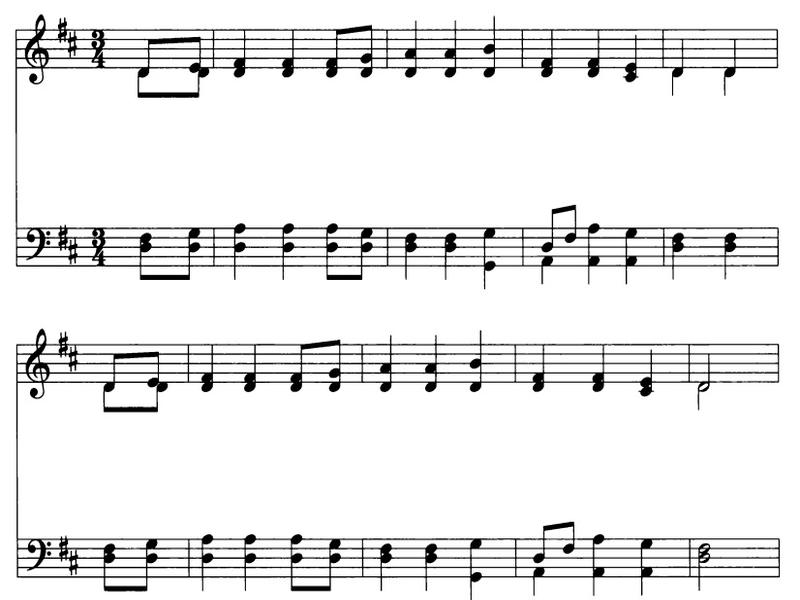B: (697, 538, 714, 593), (691, 383, 718, 412), (697, 351, 716, 391)
C: (132, 532, 167, 596), (174, 220, 207, 286), (315, 534, 350, 595), (318, 215, 343, 284), (325, 9, 348, 80), (284, 527, 308, 594), (288, 339, 317, 394), (352, 219, 376, 284), (97, 536, 121, 594), (360, 9, 379, 78), (104, 344, 127, 392), (533, 517, 555, 564), (150, 378, 174, 421), (540, 204, 562, 250), (133, 28, 154, 75), (142, 341, 163, 388), (183, 24, 203, 73), (561, 515, 582, 559), (140, 227, 156, 284), (327, 333, 341, 397), (562, 199, 579, 249), (190, 69, 213, 103), (134, 67, 152, 102), (97, 384, 117, 414)
CF: (22, 208, 55, 264), (24, 530, 53, 573)
CS: (20, 320, 54, 408), (23, 9, 50, 89)
N: (417, 328, 451, 402), (477, 4, 508, 82), (222, 213, 255, 286), (366, 329, 399, 398), (522, 333, 557, 397), (536, 14, 567, 86), (583, 330, 617, 394), (438, 5, 467, 80), (617, 22, 647, 94), (227, 11, 256, 85), (237, 324, 266, 395), (582, 527, 610, 595), (399, 7, 425, 79), (468, 321, 490, 401), (241, 532, 268, 591), (274, 18, 301, 76), (467, 530, 491, 595), (196, 520, 217, 594), (417, 530, 443, 589), (637, 349, 662, 409), (195, 338, 219, 398), (375, 530, 398, 589), (582, 22, 604, 82), (634, 530, 653, 598), (277, 220, 297, 278), (670, 28, 692, 78), (668, 231, 687, 285), (586, 220, 601, 285), (722, 228, 740, 282), (622, 224, 639, 281), (404, 231, 422, 284), (723, 35, 745, 78), (440, 229, 457, 282), (481, 257, 503, 293), (670, 65, 688, 95), (719, 65, 736, 96), (483, 227, 497, 258)
SOS: (53, 5, 67, 43), (55, 321, 70, 354), (67, 234, 80, 270), (66, 30, 82, 59), (57, 220, 72, 249), (67, 344, 81, 374), (67, 552, 81, 577), (56, 537, 67, 561)
